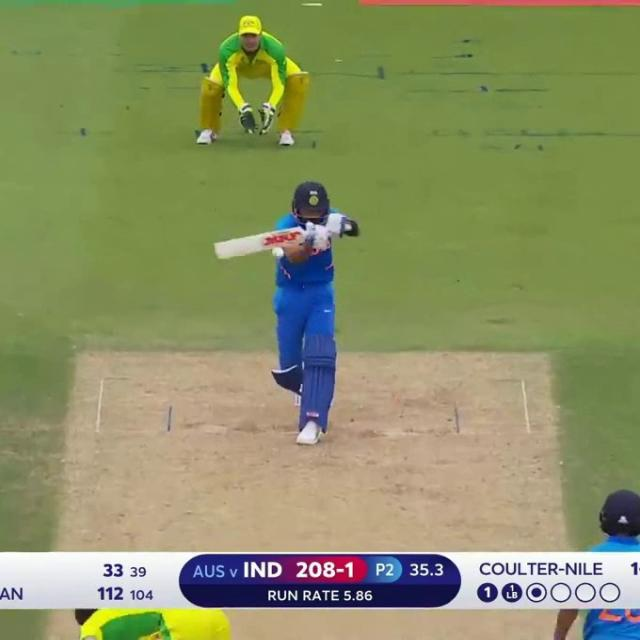bat: (212, 226, 306, 261)
toe: (209, 242, 221, 262)
